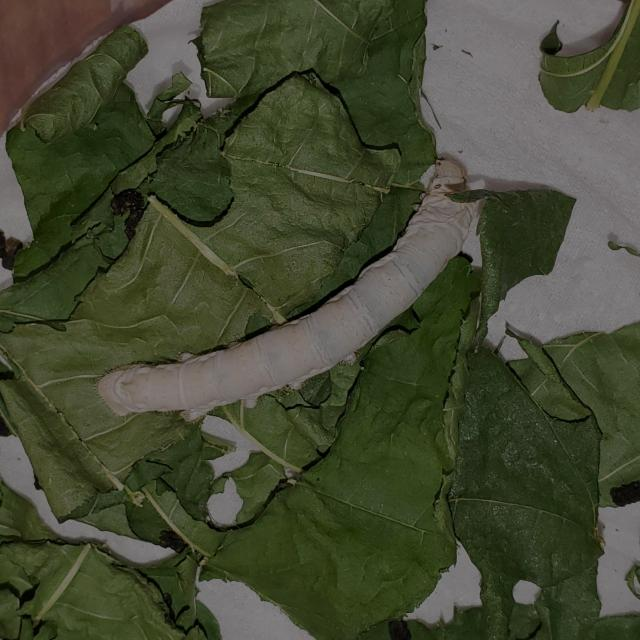Healthy: (75, 130, 514, 464)
